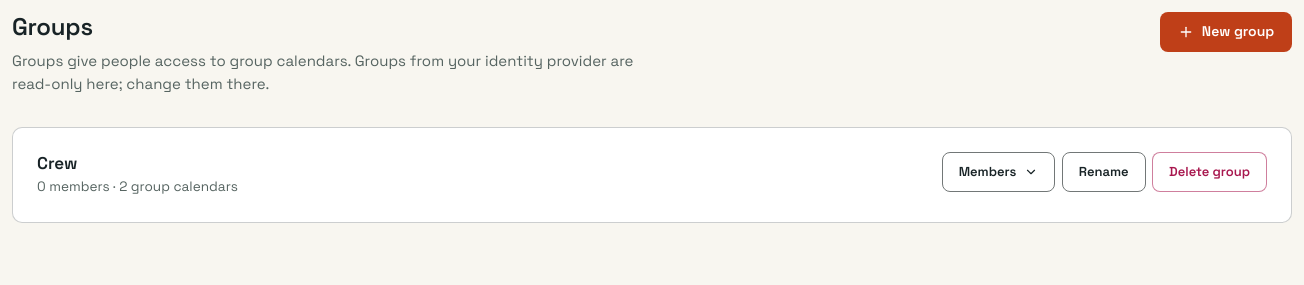
Test: Groups › names the calendars a delete affects and asks for a fresh sign-in
Click the button "Delete group" at (1210, 172), box top-left (1152, 152), bottom-right (1267, 192)
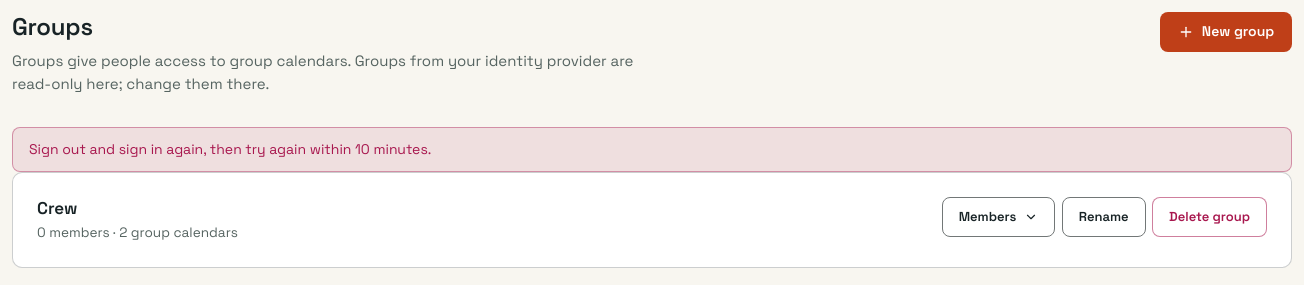
Check: the message shows "sign in again", box top-left (29, 140), bottom-right (431, 158)
